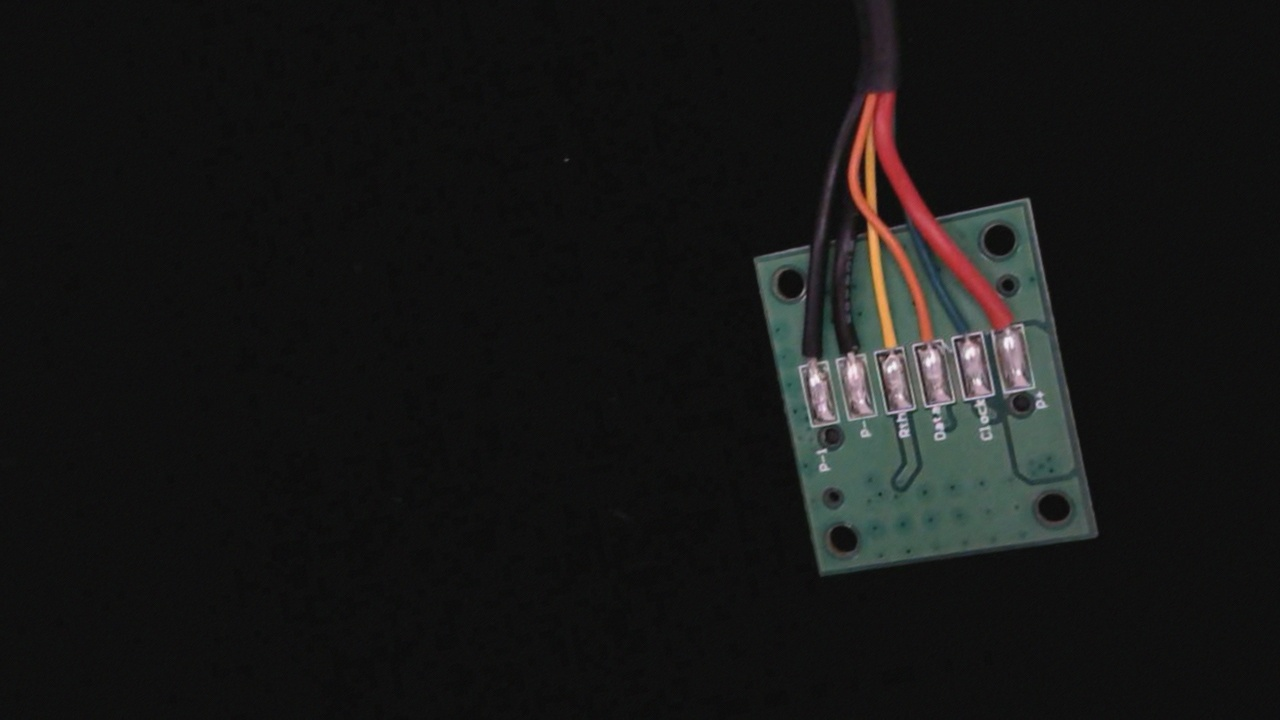Black: (824, 302, 871, 381)
Black1: (786, 314, 831, 386)
Green: (940, 289, 987, 364)
Orange: (903, 290, 948, 366)
Red: (979, 276, 1026, 351)
Yellow: (861, 293, 908, 372)
